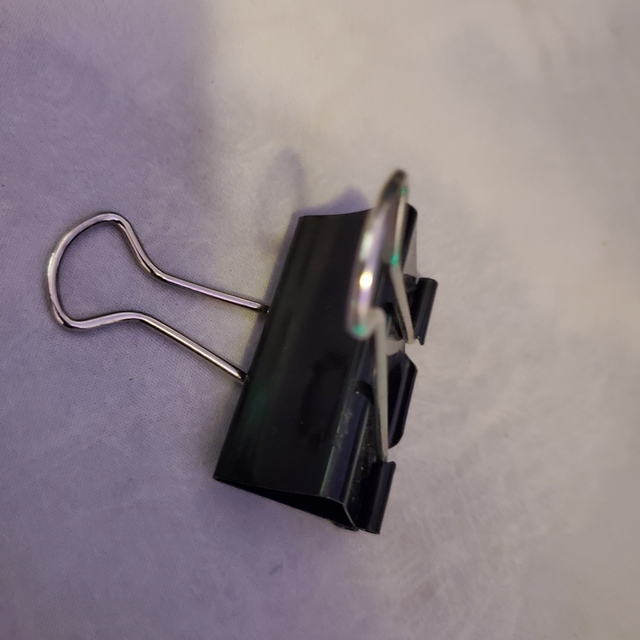clip: (38, 172, 444, 543)
